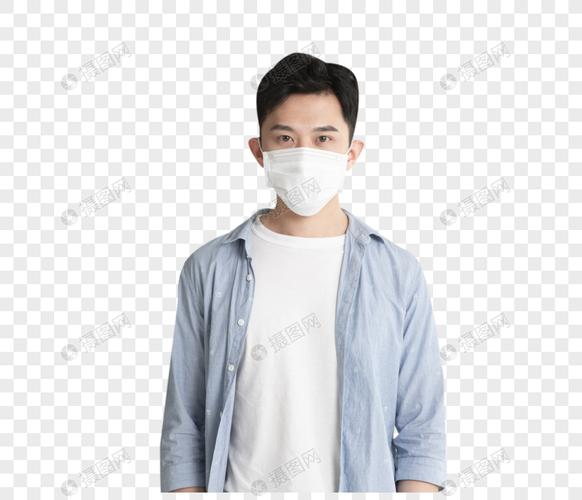mask: (261, 73, 356, 215)
